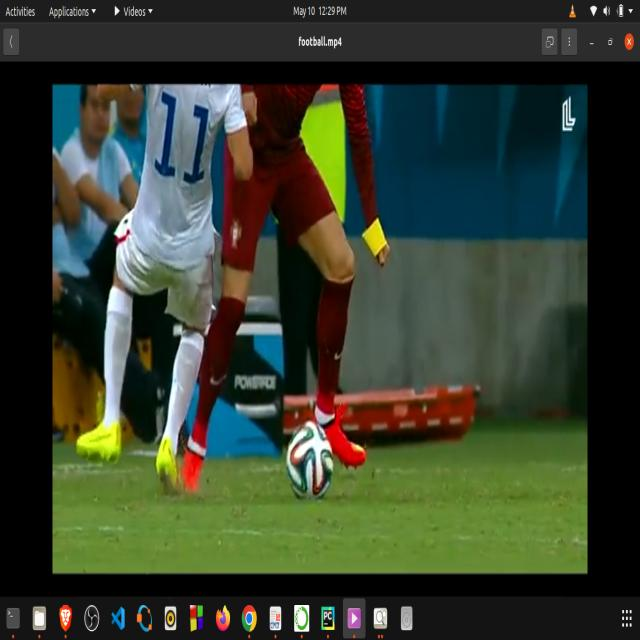Ball: (285, 418, 344, 507)
football-players: (201, 92, 387, 495), (95, 85, 226, 491)
